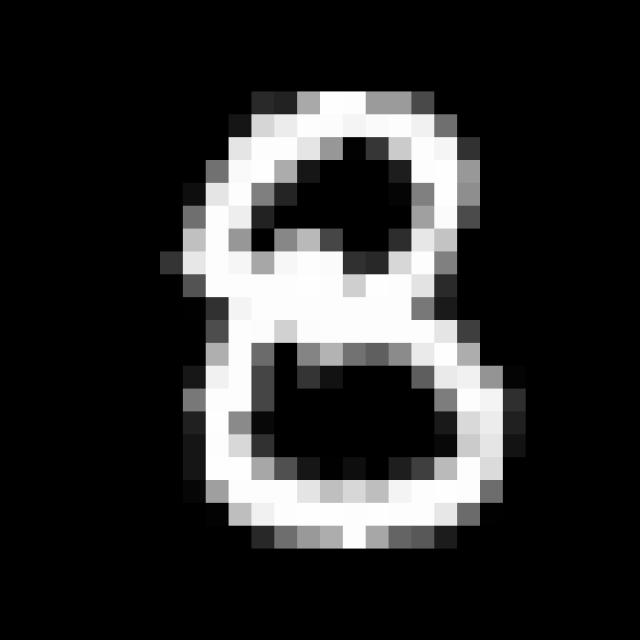eight -8-: (178, 69, 517, 576)
